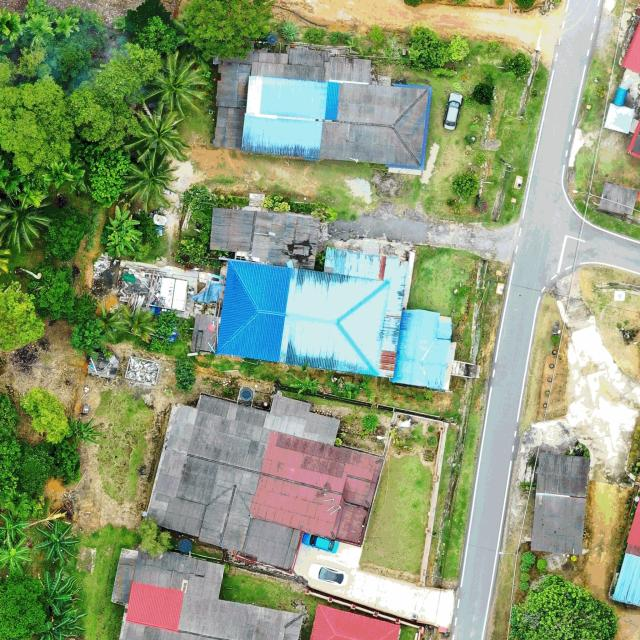Tree: (0, 74, 74, 174), (509, 574, 619, 640), (181, 0, 275, 61), (63, 80, 142, 148), (93, 41, 161, 104), (147, 52, 211, 118), (124, 101, 190, 162), (74, 143, 132, 207), (122, 150, 181, 212), (21, 261, 78, 322), (0, 571, 50, 640), (0, 190, 54, 252), (0, 280, 45, 353), (19, 386, 71, 443), (36, 565, 84, 616), (103, 206, 144, 258), (37, 518, 81, 564), (407, 25, 448, 71), (136, 514, 174, 558), (39, 608, 89, 640), (0, 531, 34, 574), (121, 304, 155, 344), (95, 304, 129, 340), (66, 414, 102, 444), (0, 508, 29, 543), (175, 356, 198, 394), (504, 51, 533, 79), (451, 171, 480, 199), (44, 160, 72, 188), (446, 34, 471, 64), (289, 374, 320, 396), (471, 82, 496, 105), (362, 413, 379, 430)
